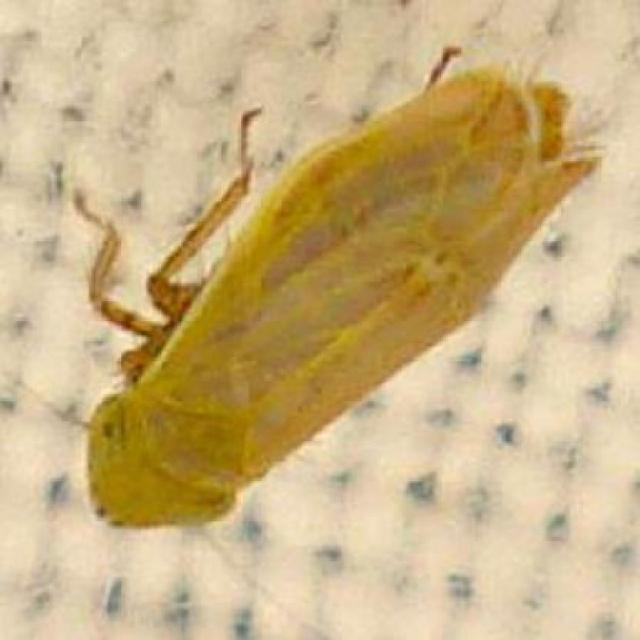green-leafhopper: (90, 68, 562, 524)
